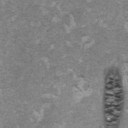oxide scale of plate system: (102, 64, 125, 128)
